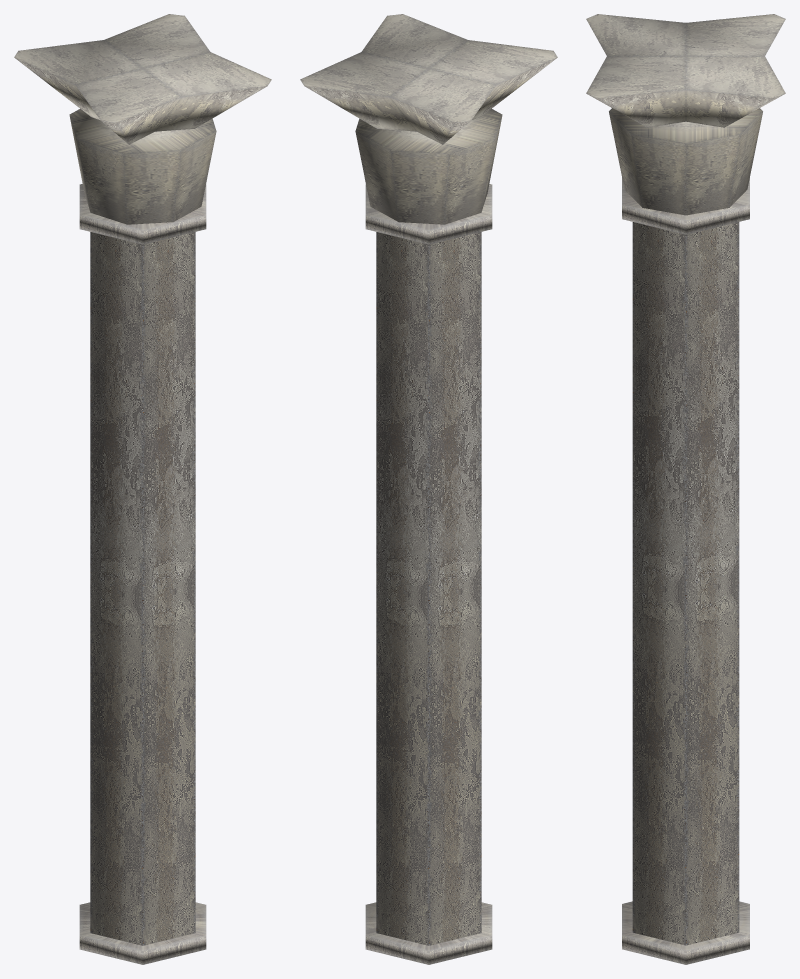
Rendered from hasira.fbx.
The picture shows the model from 3 angles, left to right: view 1: azimuth 30°, elevation 25°; view 2: azimuth 150°, elevation 25°; view 3: azimuth 270°, elevation 25°; orthographic projection.
Visible parts, largest first — view 1: low2; view 2: low2; view 3: low2.
Boxes of the visible parts, box(x1,y1,x2,y2) form: low2: box(14, 14, 271, 964); low2: box(300, 14, 557, 964); low2: box(586, 14, 785, 964).
Bounding box in the file's own units: 3.25 × 15.75 × 3.25.
